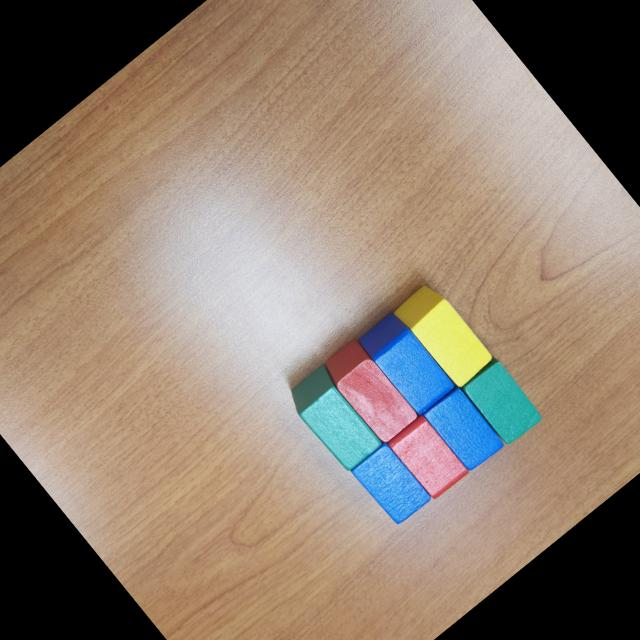blue: (356, 308, 460, 420), (420, 384, 510, 477), (350, 440, 435, 529)
green: (282, 361, 388, 475), (460, 356, 548, 449)
red: (319, 336, 421, 446), (386, 413, 469, 500)
yellow: (392, 279, 496, 391)
